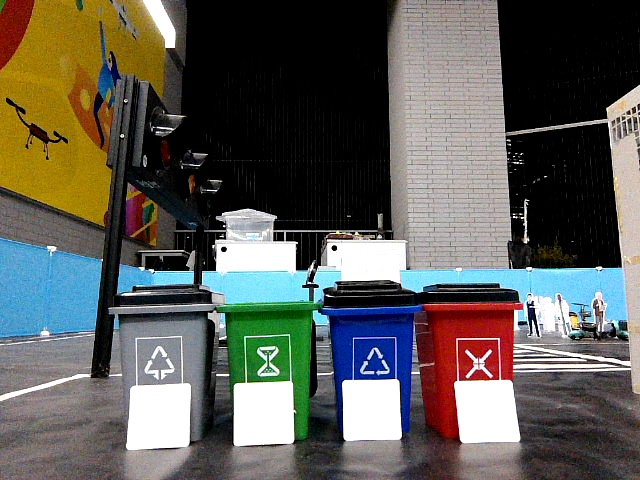blue_close: (328, 279, 409, 374)
green_open: (230, 301, 308, 379)
grey_close: (121, 285, 208, 382)
red_close: (426, 283, 512, 376)
